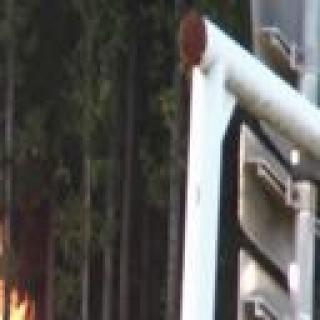fire: (0, 131, 40, 320)
